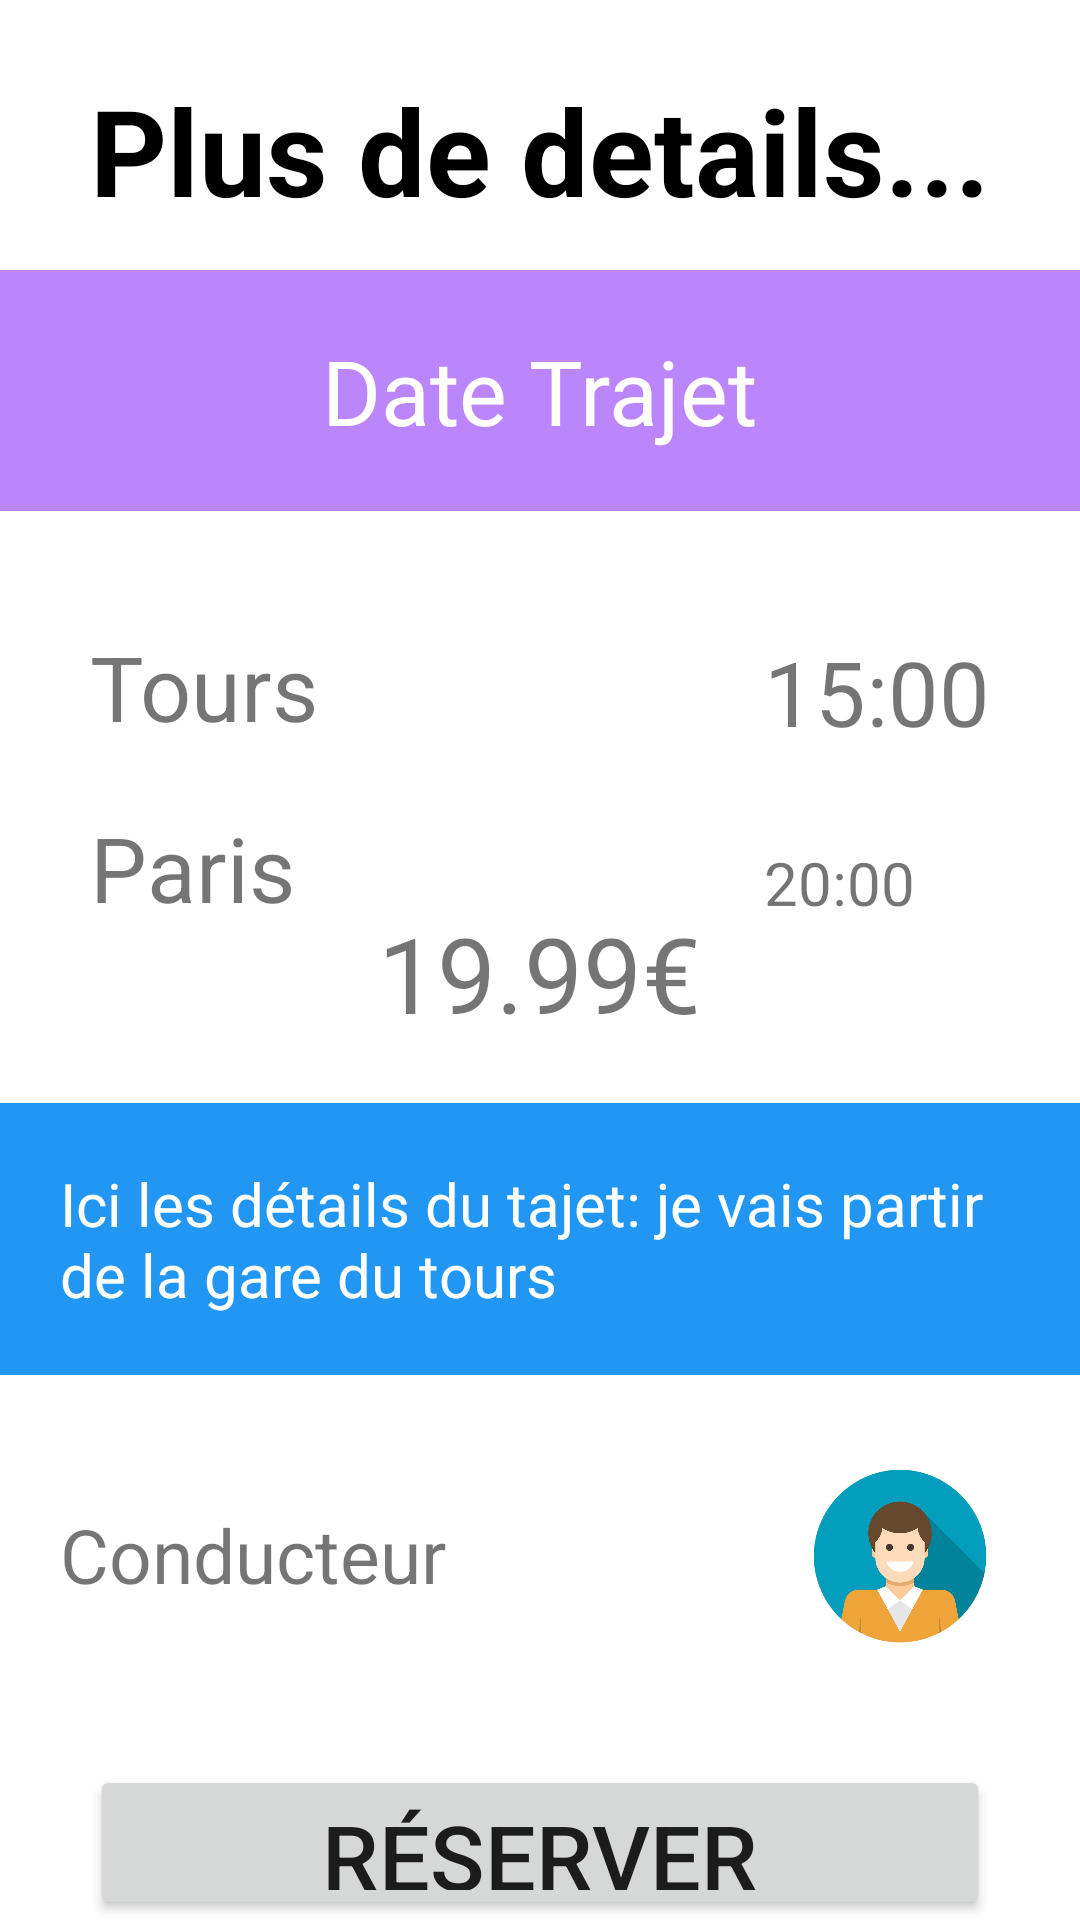

Where icons sit on this 1080 × 1920 app screen, as (x1, y1, x2, y2):
profile: (814, 1470, 986, 1643)
